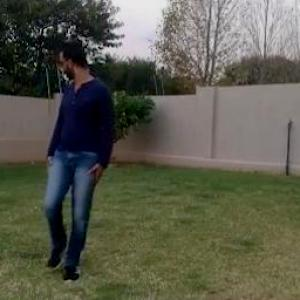follow: (47, 33, 107, 272)
